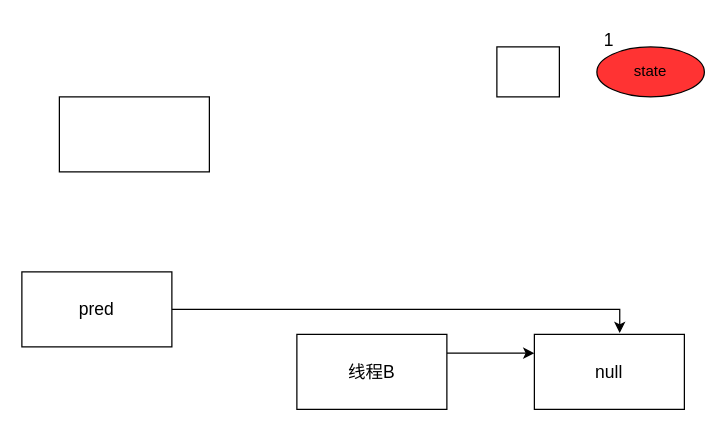
This 726x431 diagram has some shape labels left out. Here are the shapes that lost their labels. From the top down, the box of each, then its label:
(496, 46, 559, 97): 线程A
(58, 96, 209, 172): 线程B 线程C
